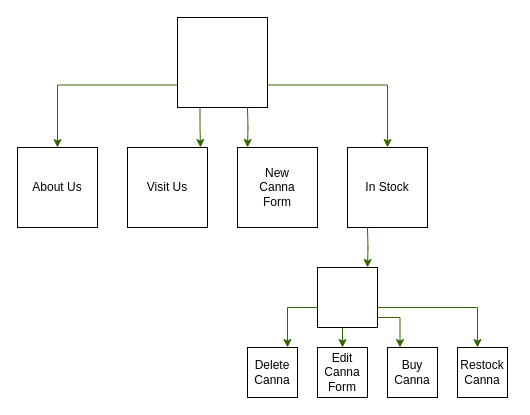
This 530x415 diagram has some shape labels left out. Each missing label, with the box of its shape:
Canna Detail: (316, 266, 378, 328)
NavBar: (176, 16, 268, 108)
